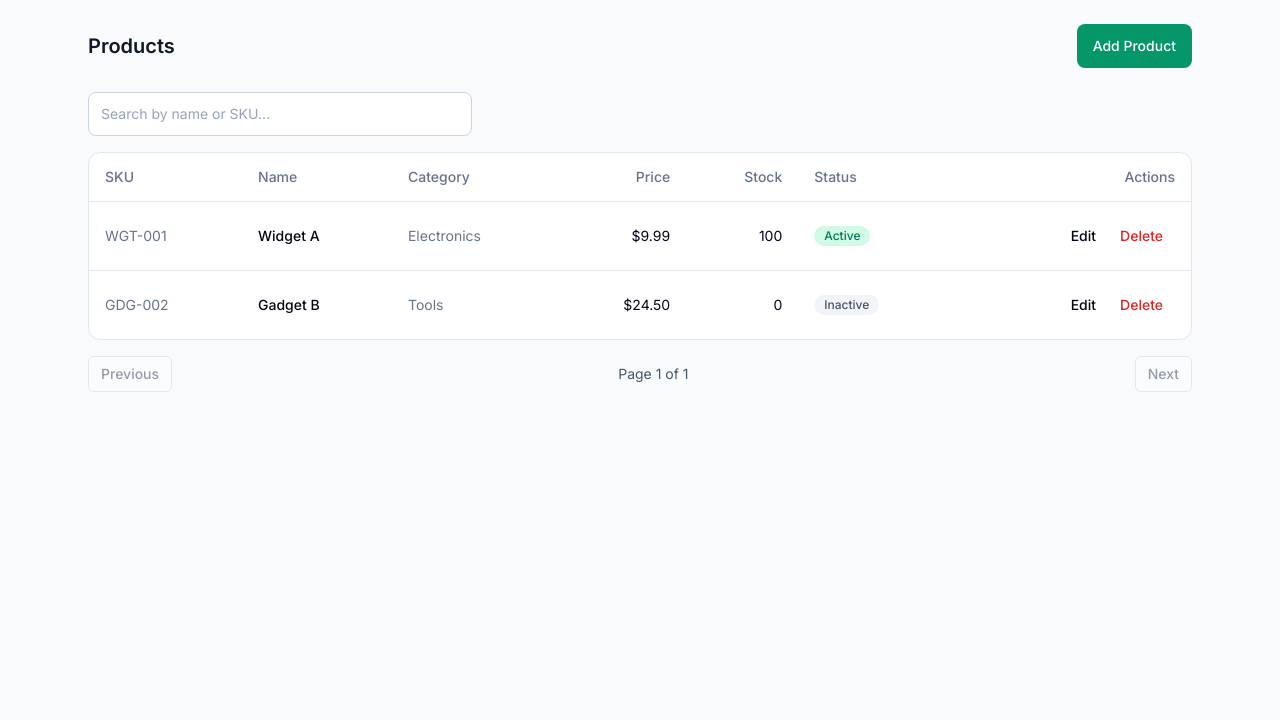
Test: ProductsPage › dismisses dialog when Cancel clicked
Click the button "Delete" in the row of "WGT-001" at (1142,236), box [1108,218,1175,254]
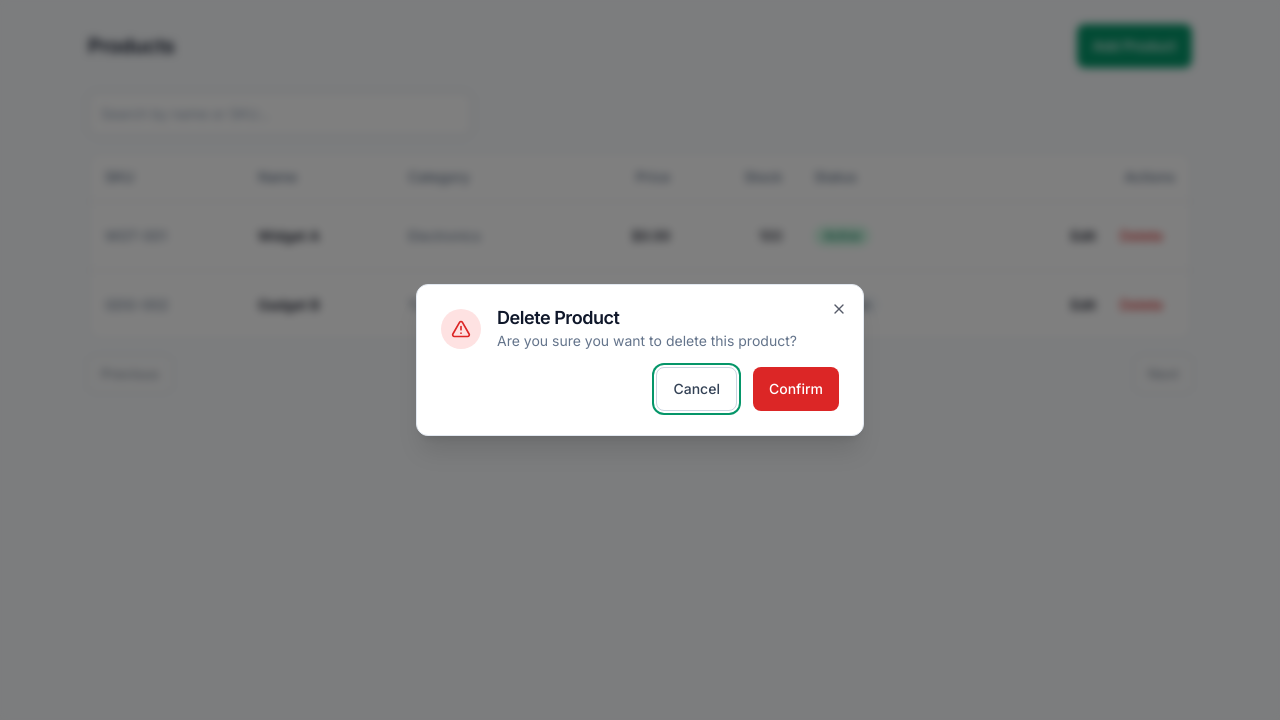
Click the button "Cancel" at (697,389), box [656,367,737,411]
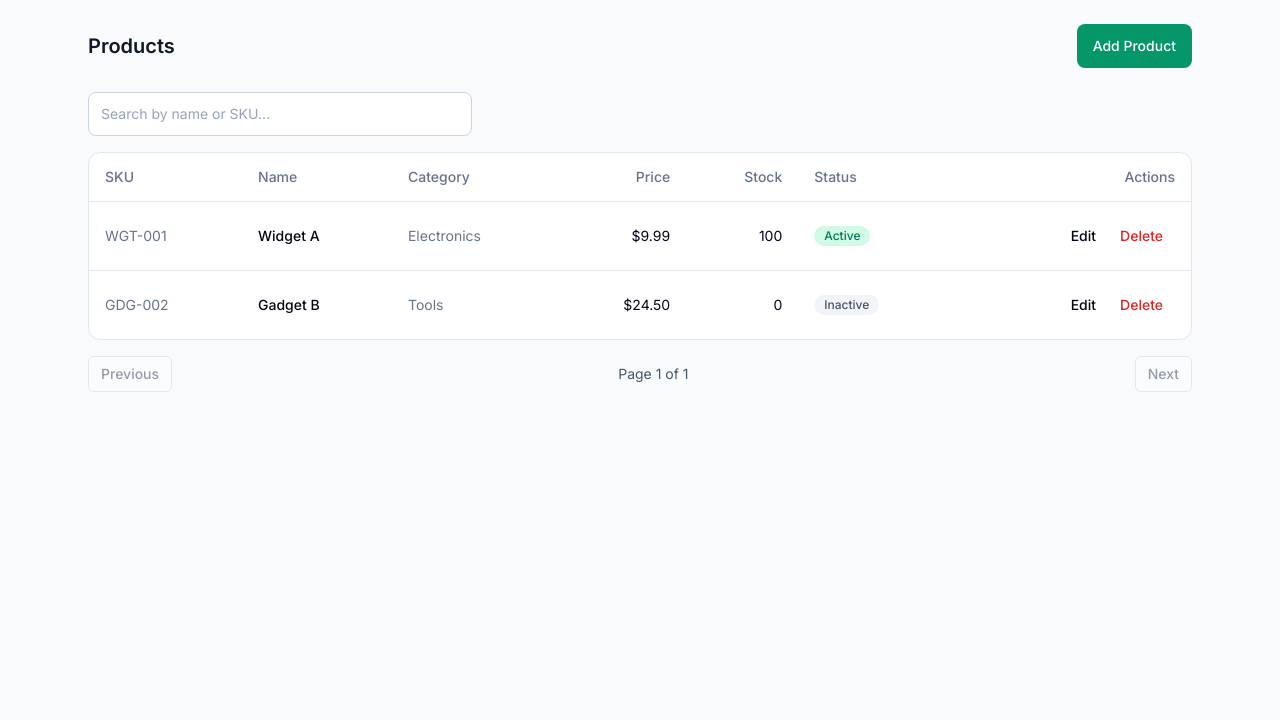
Check: the dialog is gone
